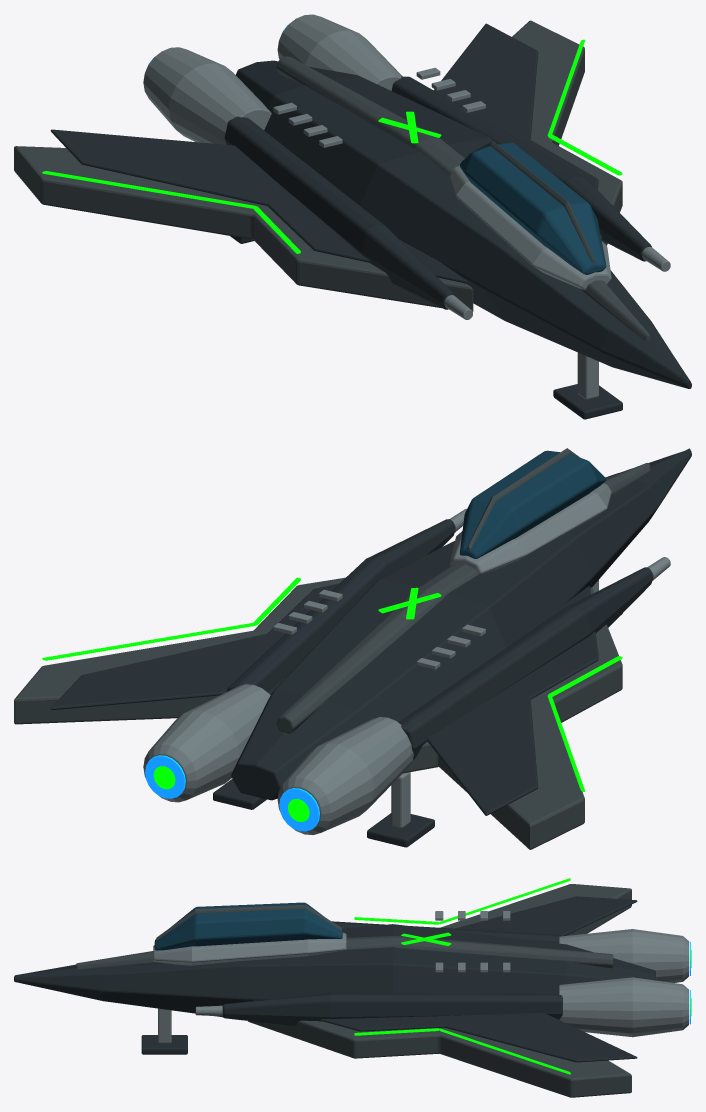
Rendered from fighter_xrpl_striker.glb.
3 renders of one model, top to bottom at view 1: azimuth 30°, elevation 25°; view 2: azimuth 150°, elevation 25°; view 3: azimuth 270°, elevation 25°, orthographic. The views are drawn at different scales.
Parts seen in each view (by area): view 1: xrpl_striker_surface_0, xrpl_striker_surface_1, xrpl_striker_surface_3, xrpl_striker_surface_5, xrpl_striker_surface_2, xrpl_striker_surface_6; view 2: xrpl_striker_surface_0, xrpl_striker_surface_1, xrpl_striker_surface_3, xrpl_striker_surface_5, xrpl_striker_surface_2, xrpl_striker_surface_4, xrpl_striker_surface_6; view 3: xrpl_striker_surface_0, xrpl_striker_surface_1, xrpl_striker_surface_3, xrpl_striker_surface_5, xrpl_striker_surface_2, xrpl_striker_surface_6.
Part boxes in pixels (x1,y1,x2,y2): xrpl_striker_surface_0: [50, 23, 691, 419]; xrpl_striker_surface_1: [14, 20, 650, 340]; xrpl_striker_surface_3: [143, 14, 670, 399]; xrpl_striker_surface_5: [460, 142, 606, 274]; xrpl_striker_surface_2: [42, 39, 622, 253]; xrpl_striker_surface_6: [467, 141, 595, 262]; xrpl_striker_surface_0: [50, 448, 691, 847]; xrpl_striker_surface_1: [14, 463, 650, 849]; xrpl_striker_surface_3: [143, 483, 670, 834]; xrpl_striker_surface_5: [460, 450, 606, 558]; xrpl_striker_surface_2: [42, 577, 622, 821]; xrpl_striker_surface_4: [145, 755, 319, 831]; xrpl_striker_surface_6: [466, 448, 579, 550]; xrpl_striker_surface_0: [14, 896, 655, 1062]; xrpl_striker_surface_1: [76, 884, 631, 1097]; xrpl_striker_surface_3: [153, 911, 688, 1043]; xrpl_striker_surface_5: [154, 902, 342, 950]; xrpl_striker_surface_2: [354, 878, 691, 1074]; xrpl_striker_surface_6: [156, 905, 341, 940].
Bounding box in the file's own units: 5.99 × 2.04 × 8.77.
